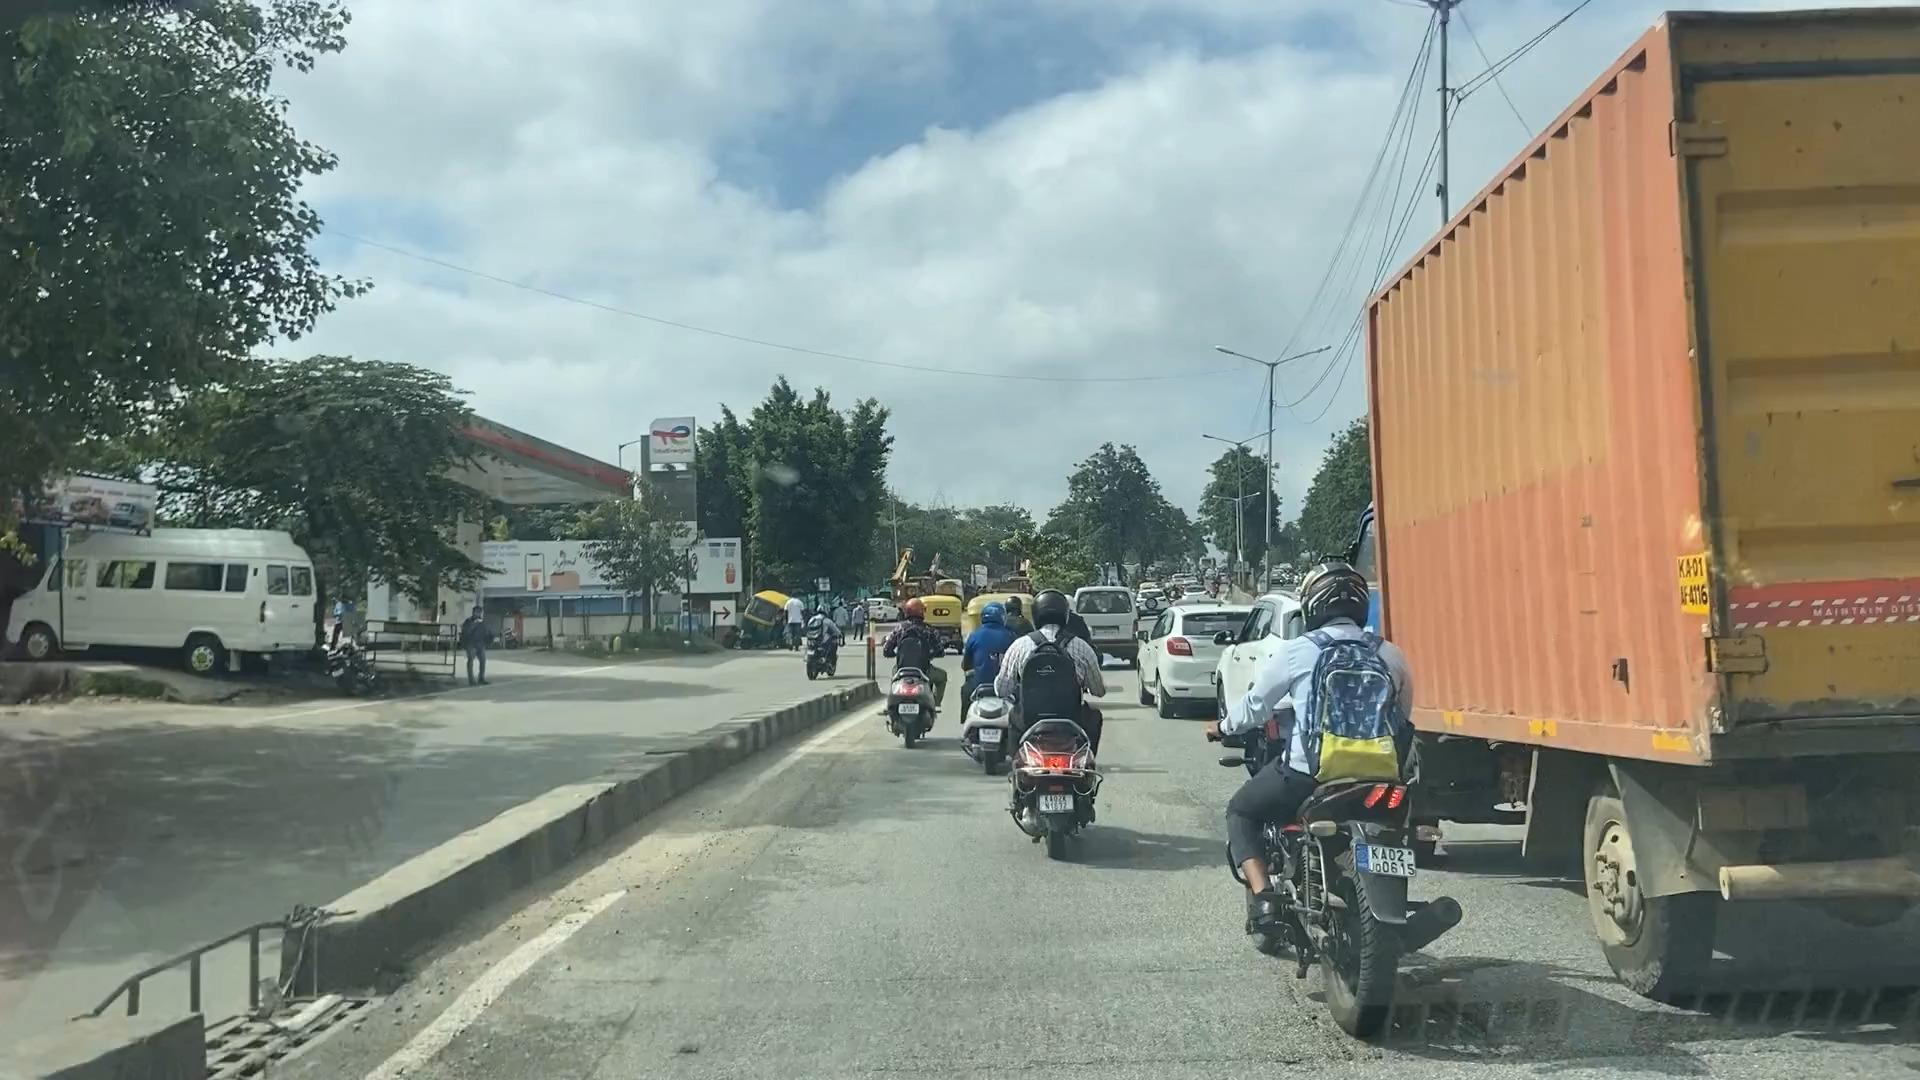LMV: (1266, 574, 1429, 1026), (998, 607, 1104, 810), (894, 600, 938, 731)
RoadDamages: (175, 895, 508, 1069)
